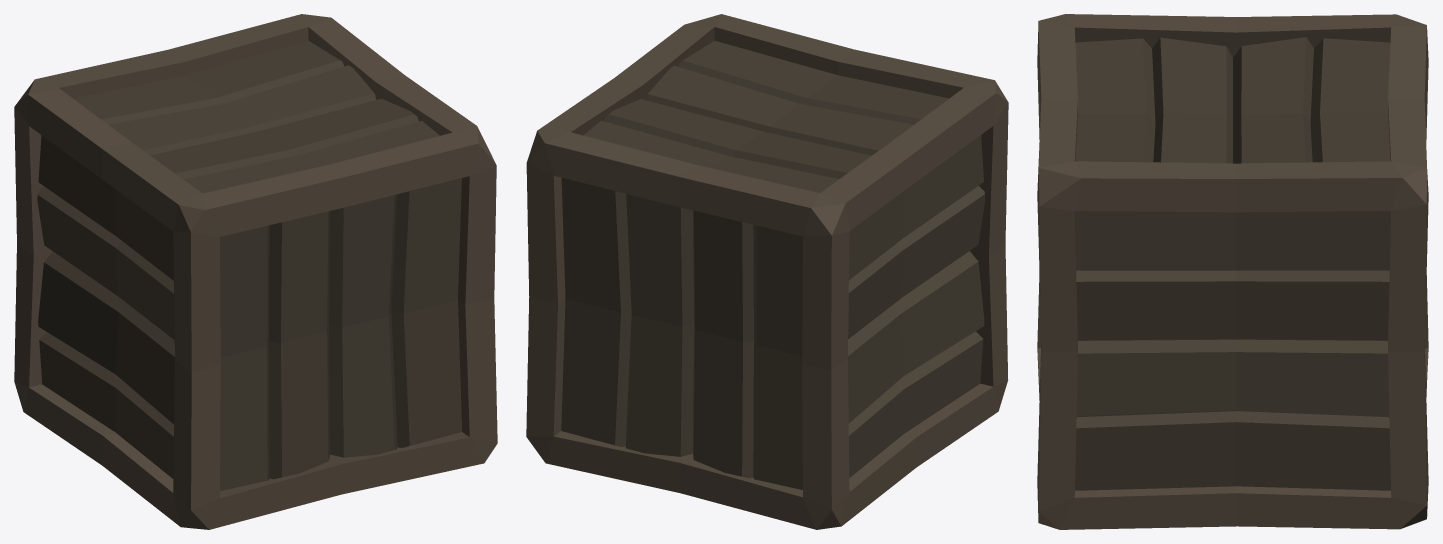
The model's file is SM_Prop_Crate_01.glb.
3 renders of one model, left to right at view 1: azimuth 30°, elevation 25°; view 2: azimuth 150°, elevation 25°; view 3: azimuth 270°, elevation 25°, orthographic. The views are drawn at different scales.
Parts seen in each view (by area): view 1: SM_Prop_Crate_01; view 2: SM_Prop_Crate_01; view 3: SM_Prop_Crate_01.
Boxes of the visible parts, x1,y1,x2,y2 form: SM_Prop_Crate_01: (14,14,497,529); SM_Prop_Crate_01: (526,14,1008,529); SM_Prop_Crate_01: (1037,14,1428,529).
Bounding box in the file's own units: 0.00844 × 0.00844 × 0.00844.
